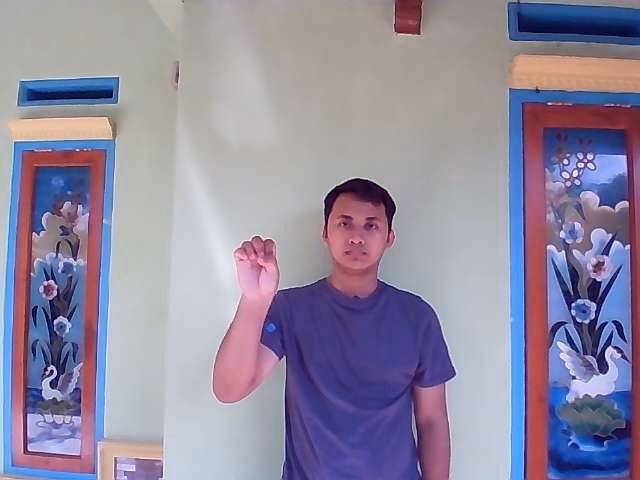E: (227, 231, 282, 316)
